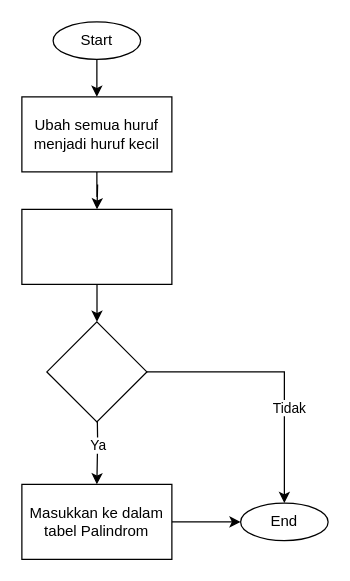
Image size: 350x581. Some labels were removed from this diagram. Each missing label, with the centre of its shape:
Balik urutan huruf dalam nama: (x=96, y=246)
Nama terbalik?: (x=96, y=371)
